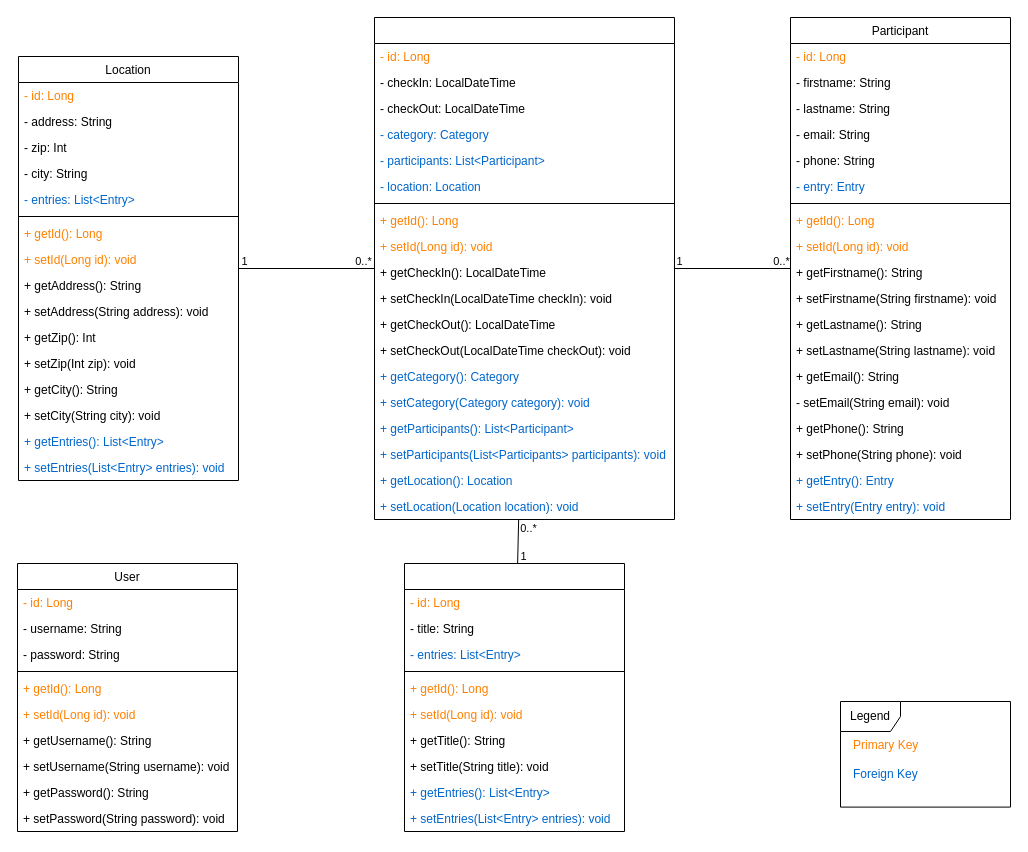
This 1028x852 diagram has some shape labels left out. The box of each missing label's shape, as (x1, y1, x2, y2) in pixels:
Category: (404, 562, 624, 832)
Entry: (374, 16, 674, 520)
